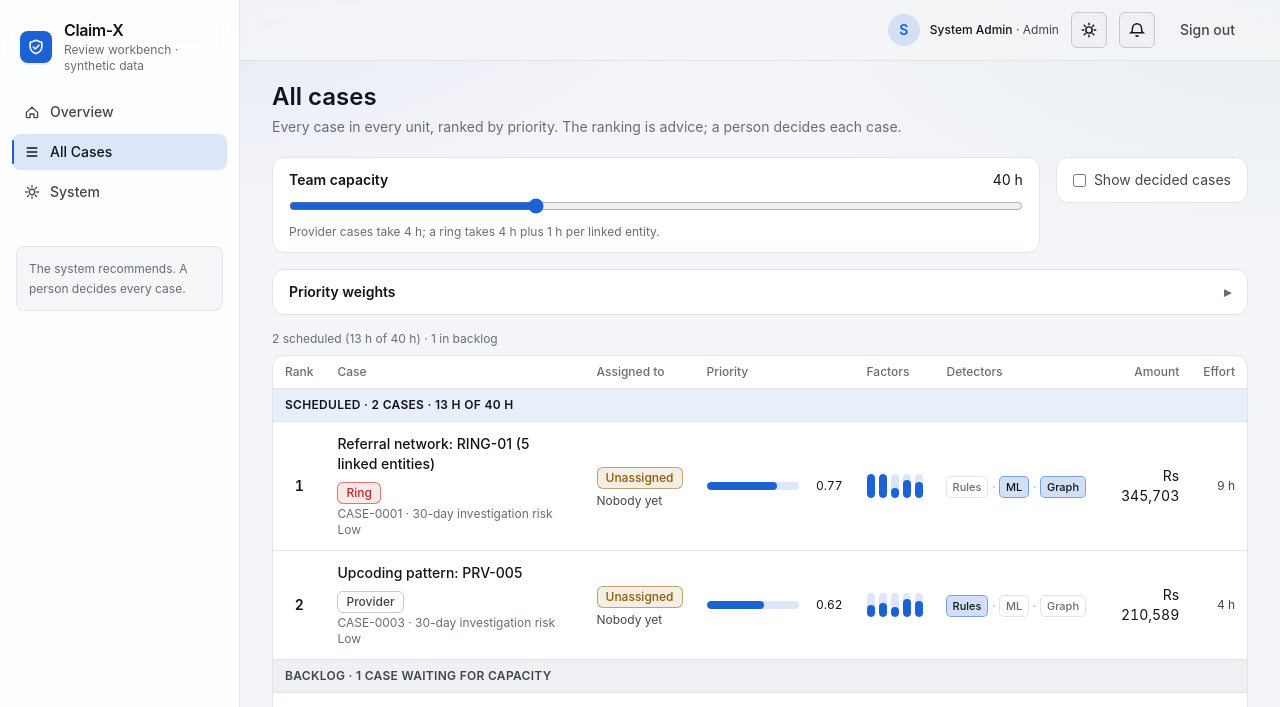
Test: notification bell › does not break the page when the notifications cannot be loaded
Click the button named "Notifications" at (1137, 30), box [1119, 12, 1155, 48]
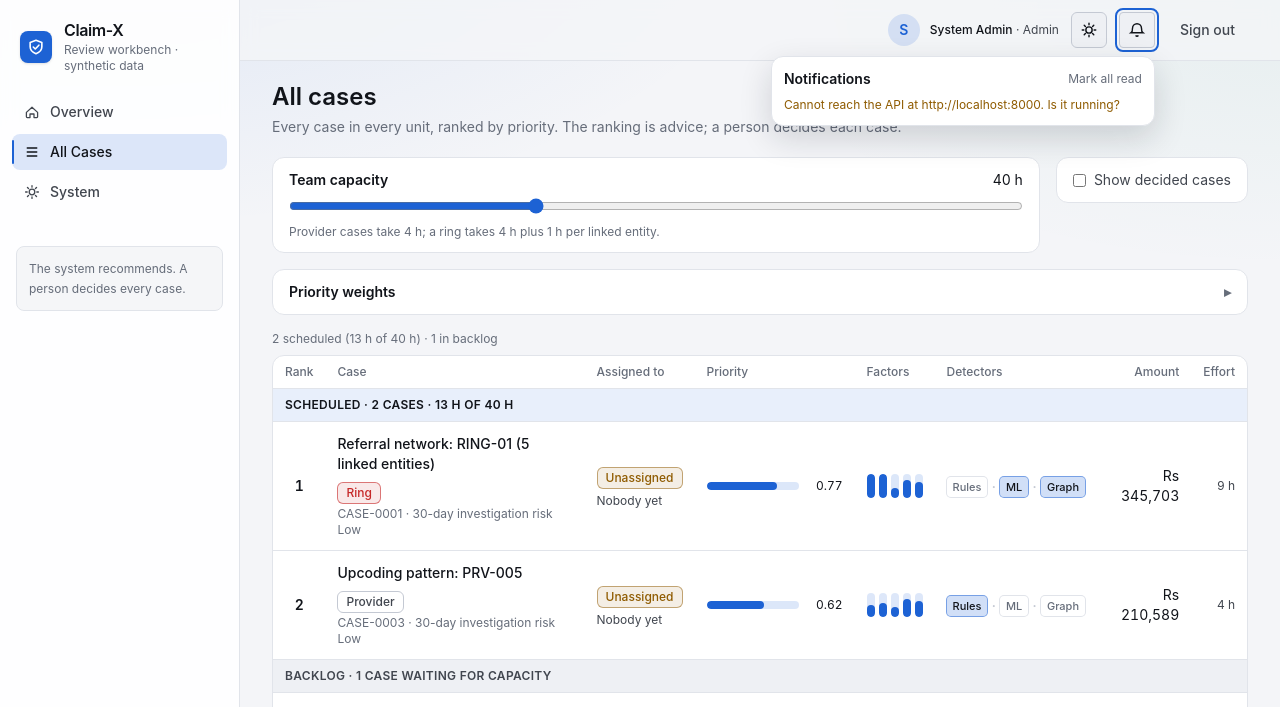
Check: the element with test id "notification-panel" is shown, box [771, 56, 1155, 126]
